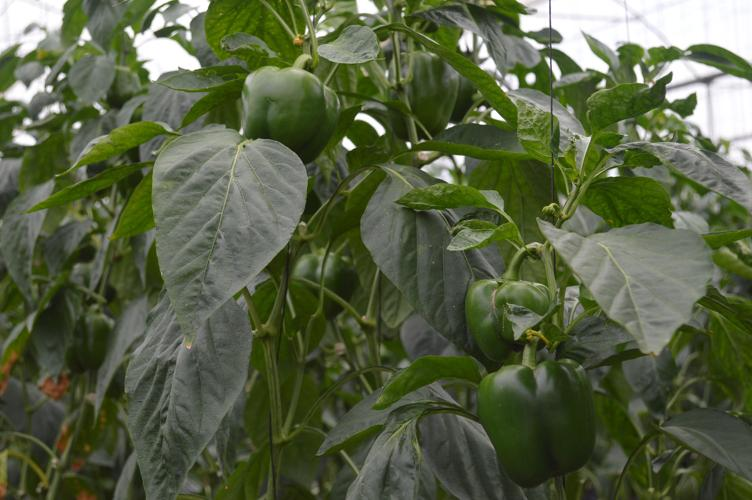BellPepper: (462, 352, 600, 494), (217, 60, 348, 163), (457, 267, 551, 363), (378, 44, 464, 142), (285, 249, 369, 321)
